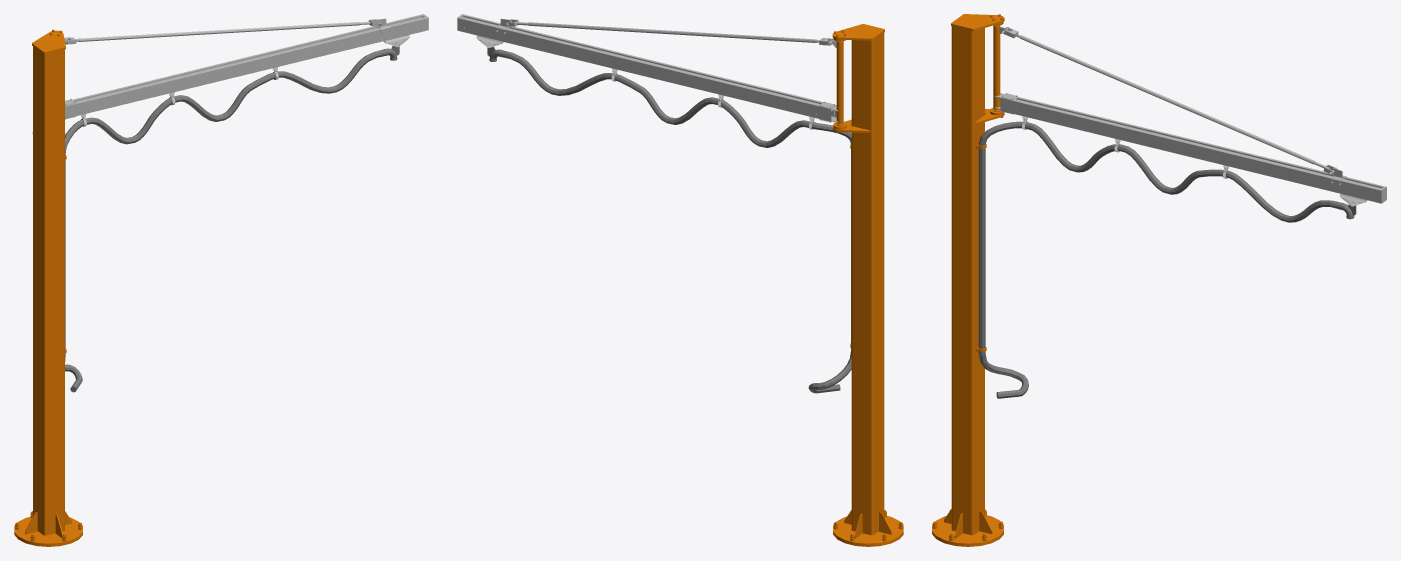
The model's file is aardwolf_all_part_Over Braced Jib Crane - 3m-125kg@p1_-90_-141_0@p2_2956_-141_3105.fbx.
3 renders of one model, left to right at view 1: azimuth 30°, elevation 25°; view 2: azimuth 150°, elevation 25°; view 3: azimuth 330°, elevation 25°, orthographic. The views are drawn at different scales.
Parts seen in each view (by area): view 1: aardwolf_all_part_obj184, aardwolf_all_part_obj226, Shape141, aardwolf_all_part_obj193, Shape107, aardwolf_all_part_obj308; view 2: aardwolf_all_part_obj184, aardwolf_all_part_obj226, Shape141, aardwolf_all_part_obj193, Shape107, aardwolf_all_part_obj308; view 3: aardwolf_all_part_obj184, aardwolf_all_part_obj226, Shape141, Shape107, aardwolf_all_part_obj193, aardwolf_all_part_obj308.
Boxes of the visible parts, bbox=[...] form: aardwolf_all_part_obj184: bbox=[32, 30, 65, 535]; aardwolf_all_part_obj226: bbox=[50, 14, 428, 119]; Shape141: bbox=[85, 51, 380, 144]; aardwolf_all_part_obj193: bbox=[14, 511, 82, 546]; Shape107: bbox=[65, 120, 84, 392]; aardwolf_all_part_obj308: bbox=[81, 35, 409, 126]; aardwolf_all_part_obj184: bbox=[832, 24, 884, 535]; aardwolf_all_part_obj226: bbox=[457, 14, 846, 133]; Shape141: bbox=[506, 52, 809, 147]; aardwolf_all_part_obj193: bbox=[833, 510, 903, 546]; Shape107: bbox=[808, 122, 851, 393]; aardwolf_all_part_obj308: bbox=[476, 35, 814, 129]; aardwolf_all_part_obj184: bbox=[951, 14, 1004, 535]; aardwolf_all_part_obj226: bbox=[990, 14, 1386, 203]; Shape141: bbox=[1025, 122, 1335, 222]; Shape107: bbox=[978, 121, 1028, 398]; aardwolf_all_part_obj193: bbox=[932, 509, 1003, 546]; aardwolf_all_part_obj308: bbox=[1022, 116, 1367, 219].
Bounding box in the file's own units: 3449 × 3853 × 493.
